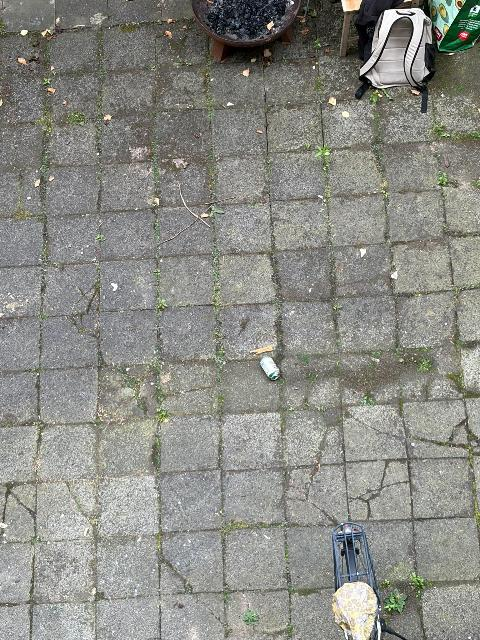can: (261, 355, 283, 382)
